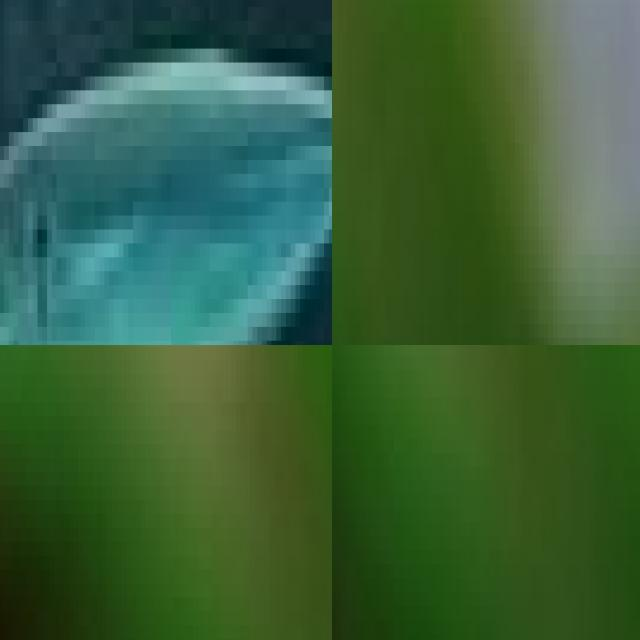fish: (0, 0, 332, 345), (332, 0, 640, 345)
